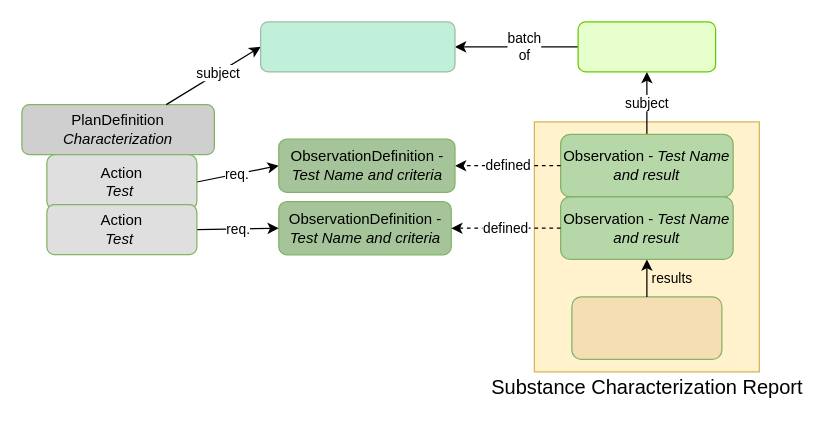
The diagram is 824 pixels wide and 431 high, and some of its shapes have lost their labels. Here are the shapes that lost their labels. From the top down, the centre of each, then its label:
At pixel 357 46: "SubstanceDefinition Stelbatolol".
At pixel 646 46: "Substance Batch 1".
At pixel 646 327: "DiagnosticReport List of values and conclusion (shelf life)".
